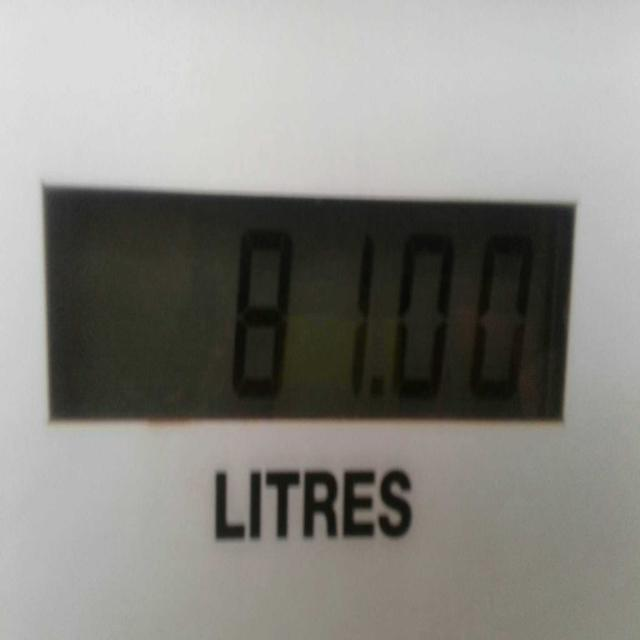.: (366, 352, 392, 422)
0: (392, 224, 462, 402), (466, 230, 536, 408)
1: (332, 222, 384, 402)
8: (219, 228, 309, 404)
